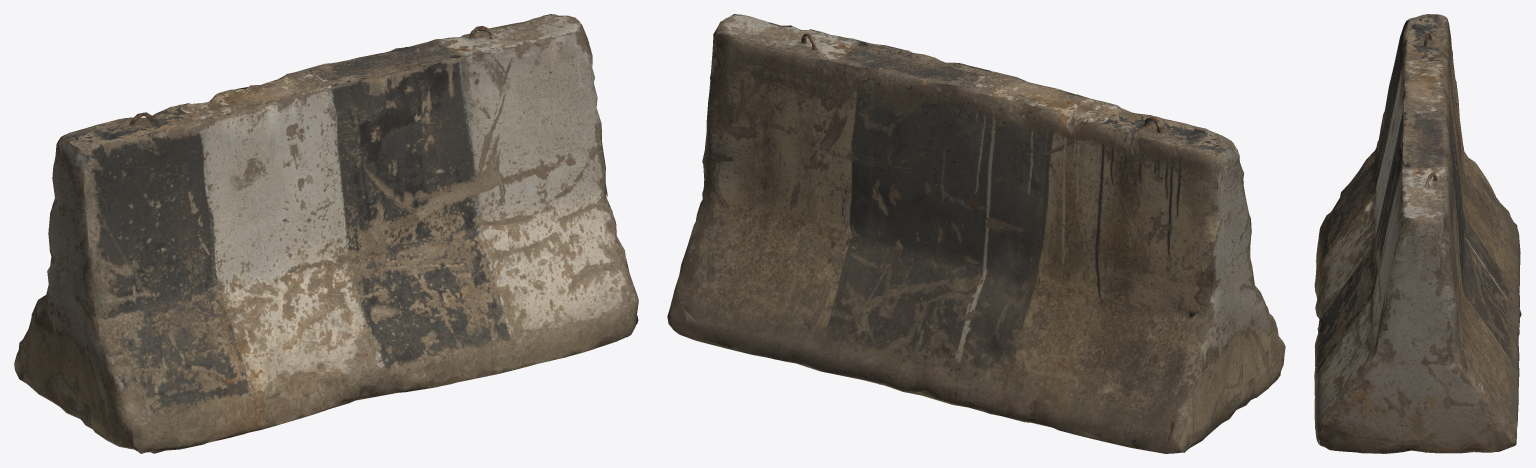
File: concrete_road_barrier.glb
The picture shows the model from 3 angles, left to right: view 1: azimuth 30°, elevation 25°; view 2: azimuth 150°, elevation 25°; view 3: azimuth 270°, elevation 25°; orthographic projection. The views are drawn at different scales.
Parts seen in each view (by area): view 1: concrete_road_barrier; view 2: concrete_road_barrier; view 3: concrete_road_barrier.
Part boxes in pixels (bbox=[...]): concrete_road_barrier: bbox=[14, 14, 638, 453]; concrete_road_barrier: bbox=[667, 14, 1285, 453]; concrete_road_barrier: bbox=[1314, 14, 1521, 453].
Size of the model in its own units: 1.54 by 0.8328 by 0.6358.
1 material, 1 textured.
